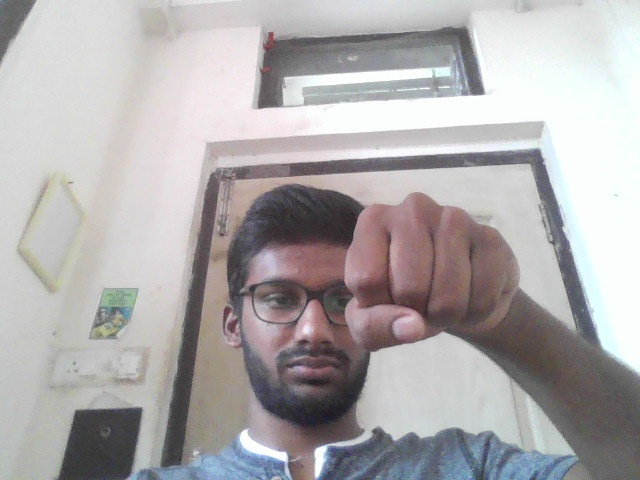No: (338, 190, 524, 353)
